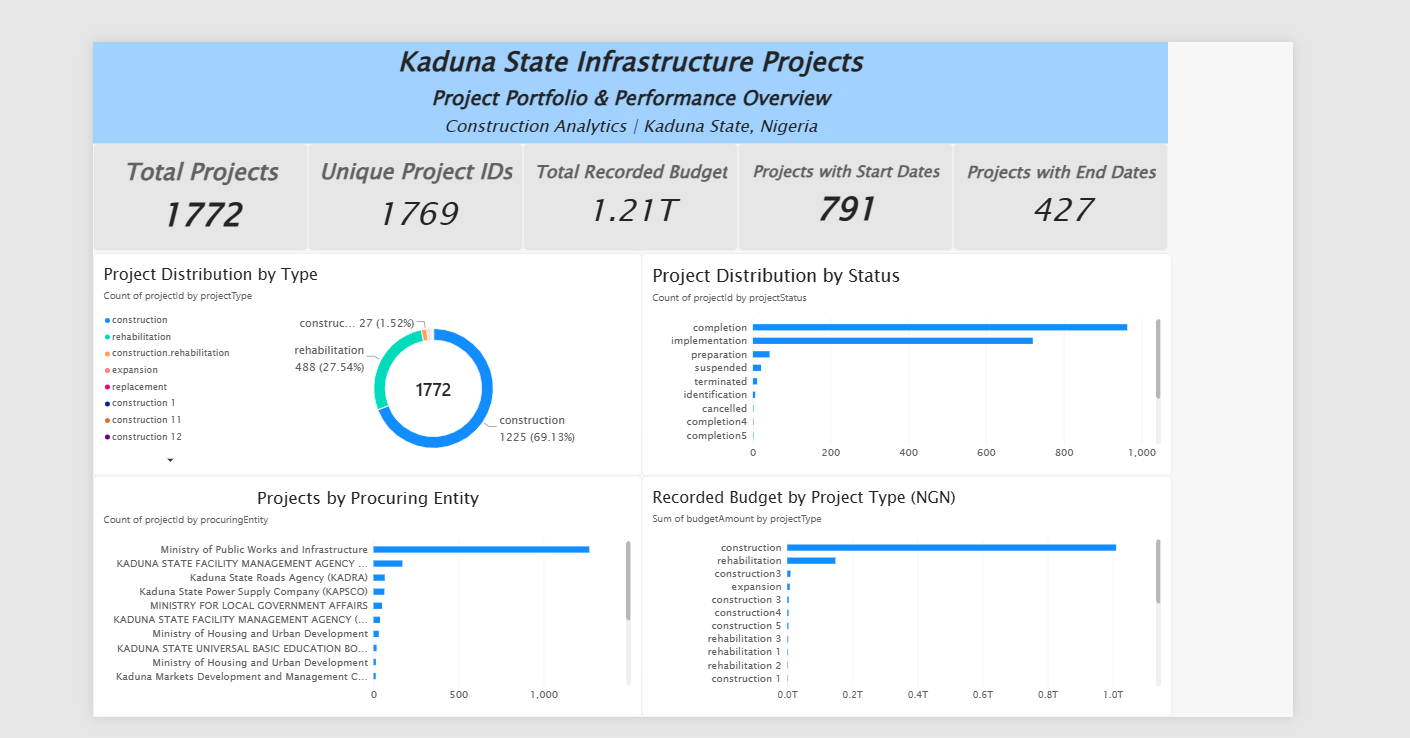

What the dashboard file says about the page in this screenshot:
{"tool":"powerbi","page":{"name":"Project Performance Dashboard","canvas":[1920,1080],"ordinal":0},"visuals":[{"type":"cardVisual","fields":{"Data":["Kaduna_Projects_Cleaned.Total Projects"]},"box":[0,162,344,172],"z":0},{"type":"clusteredBarChart","title":"Project Distribution by Status","fields":{"Category":["Kaduna_Projects_Cleaned.projectStatus"],"Y":["CountNonNull(Kaduna_Projects_Cleaned.projectId)"]},"box":[878.3,333.3,848.3,360],"z":1},{"type":"donutChart","title":"Project Distribution by Type","fields":{"Category":["Kaduna_Projects_Cleaned.projectType"],"Y":["CountNonNull(Kaduna_Projects_Cleaned.projectId)"]},"box":[0,338,878,356],"z":2},{"type":"clusteredBarChart","title":"Recorded Budget by Project Type (NGN)","fields":{"Category":["Kaduna_Projects_Cleaned.projectType"],"Y":["Sum(Kaduna_Projects_Cleaned.budgetAmount)"]},"box":[878,694,848,386],"z":3},{"type":"clusteredBarChart","title":"Projects by Procuring Entity","fields":{"Category":["Kaduna_Projects_Cleaned.procuringEntity"],"Y":["CountNonNull(Kaduna_Projects_Cleaned.projectId)"]},"box":[0,694,878,386],"z":4},{"type":"cardVisual","fields":{"Data":["Kaduna_Projects_Cleaned.Unique Project IDs"]},"box":[344,162,344,172],"z":7},{"type":"cardVisual","fields":{"Data":["Kaduna_Projects_Cleaned.Total Recorded Budget"]},"box":[688,162,344,172],"z":8},{"type":"cardVisual","fields":{"Data":["Kaduna_Projects_Cleaned.Projects with Start Dates"]},"box":[1032,162,344,172],"z":9},{"type":"cardVisual","fields":{"Data":["Kaduna_Projects_Cleaned.Projects with End Dates"]},"box":[1376,162,344,172],"z":10},{"type":"textbox","box":[0,0,1720,162],"z":11}]}

Visuals, with their boxes on the page's 1920x1080 design canvas (x1, y1, x2, y2). These are canvas units, not pixel positions in the 1410x738 screenshot, which may show the page scaled, cropped or inside an application window:
cardVisual - Kaduna_Projects_Cleaned.Total Projects: 0,162,344,334
"Project Distribution by Status" clusteredBarChart: 878,333,1727,693
"Project Distribution by Type" donutChart: 0,338,878,694
"Recorded Budget by Project Type (NGN)" clusteredBarChart: 878,694,1726,1080
"Projects by Procuring Entity" clusteredBarChart: 0,694,878,1080
cardVisual - Kaduna_Projects_Cleaned.Unique Project IDs: 344,162,688,334
cardVisual - Kaduna_Projects_Cleaned.Total Recorded Budget: 688,162,1032,334
cardVisual - Kaduna_Projects_Cleaned.Projects with Start Dates: 1032,162,1376,334
cardVisual - Kaduna_Projects_Cleaned.Projects with End Dates: 1376,162,1720,334
textbox: 0,0,1720,162
